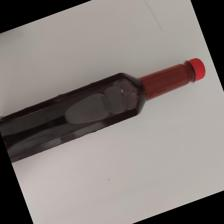Namngu: (1, 58, 207, 167)
